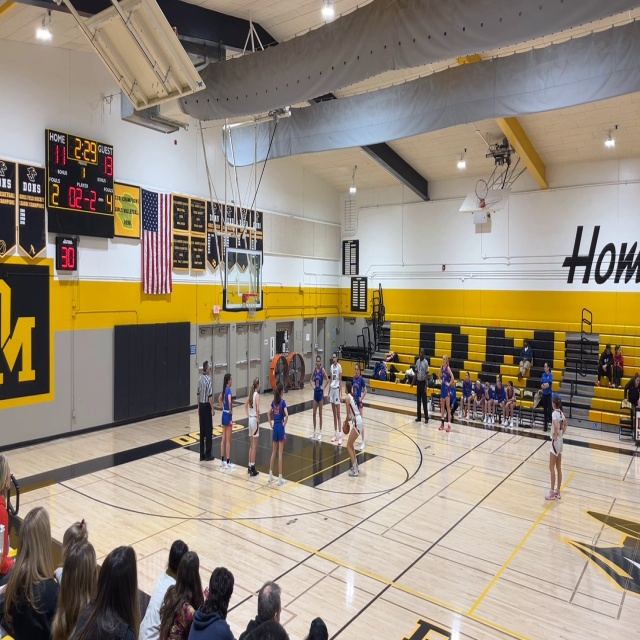Basketball: (342, 421, 350, 434)
